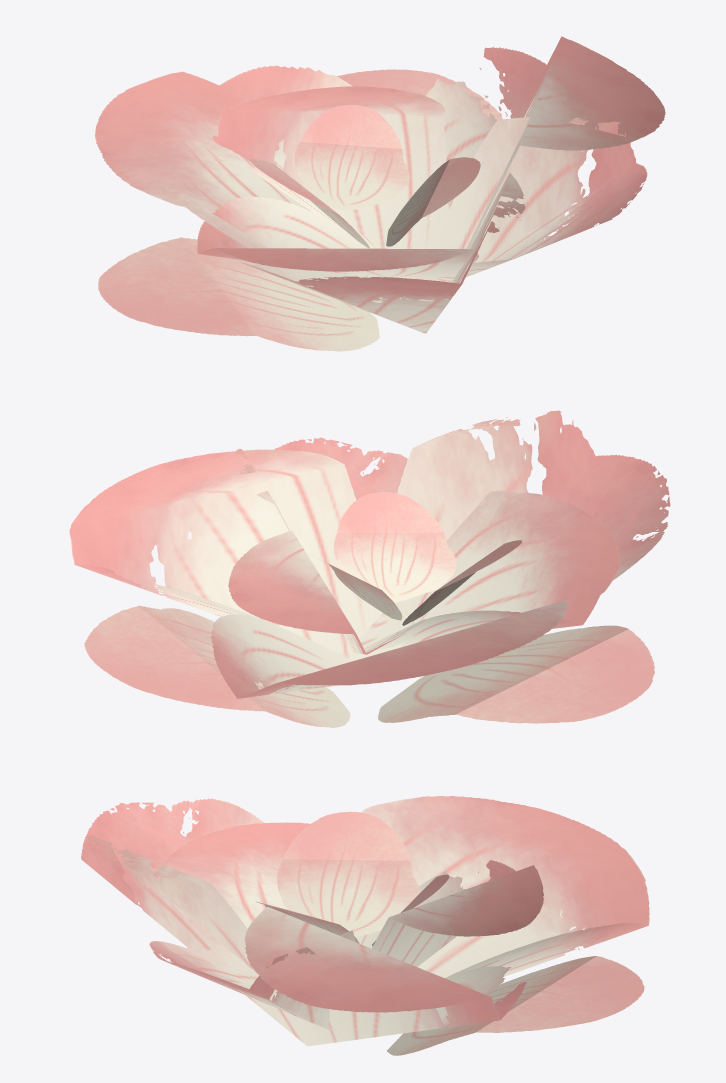
The model's file is pink_hydrangea.fbx.
The picture shows the model from 3 angles, top to bottom: view 1: azimuth 30°, elevation 25°; view 2: azimuth 150°, elevation 25°; view 3: azimuth 270°, elevation 25°; orthographic projection. The views are drawn at different scales.
Visible parts, largest first — view 1: pink_hydrangea; view 2: pink_hydrangea; view 3: pink_hydrangea.
Boxes of the visible parts, box(x1,y1,x2,y2) form: pink_hydrangea: box(95, 36, 665, 351); pink_hydrangea: box(69, 410, 670, 727); pink_hydrangea: box(81, 796, 649, 1055).
Size of the model in its own units: 0.5764 by 0.1935 by 0.6359.
Materials: 1 (1 with a texture image).
